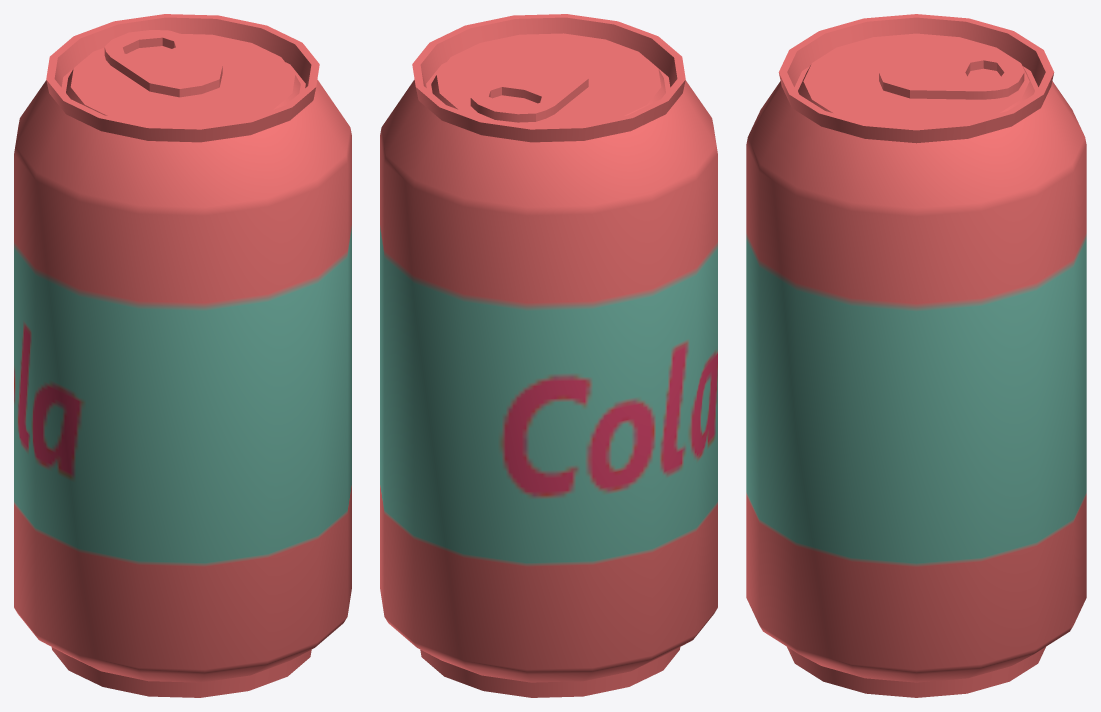
Rendered from can-cola.fbx.
3 views of the same model, side by side, from view 1: azimuth 30°, elevation 25°; view 2: azimuth 150°, elevation 25°; view 3: azimuth 270°, elevation 25° (orthographic).
Parts seen in each view (by area): view 1: can_cola; view 2: can_cola; view 3: can_cola.
Boxes of the visible parts, <box> form: can_cola: <box>14,14,351,697</box>; can_cola: <box>380,14,717,697</box>; can_cola: <box>746,14,1086,697</box>.
Bounding box in the file's own units: 0.066 × 0.122 × 0.066.
